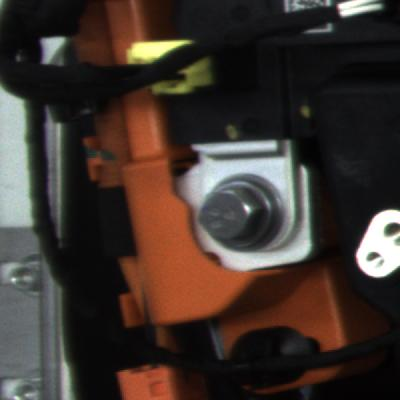nut_b: (187, 162, 284, 264)
